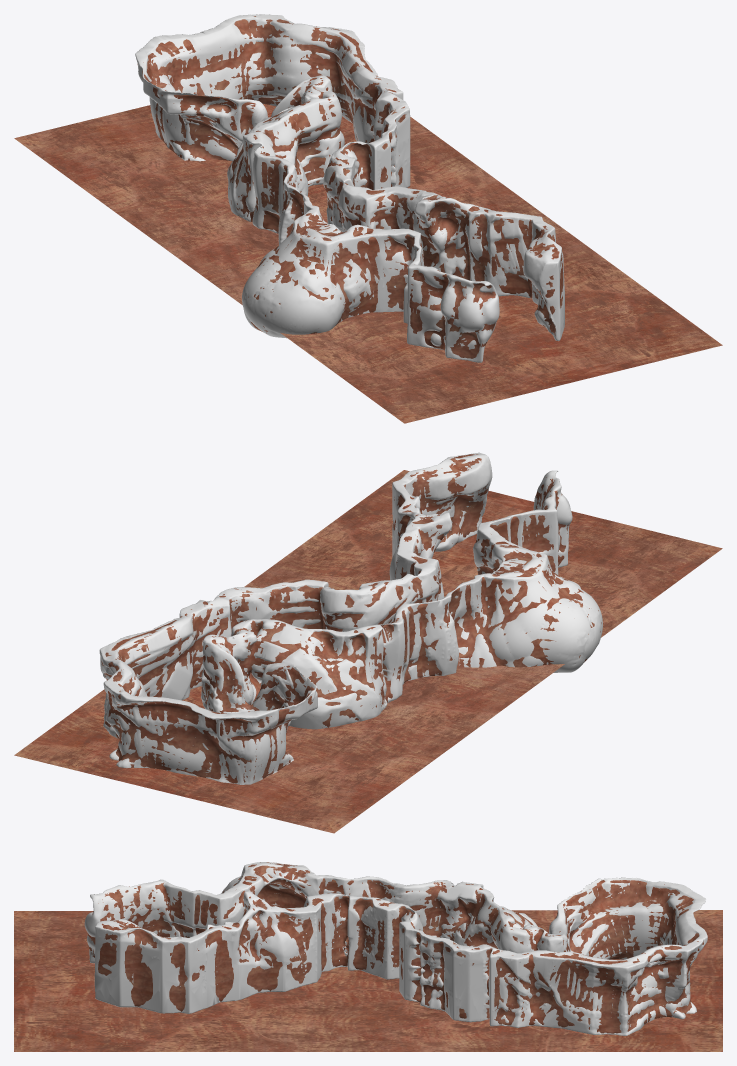
Rendered from floor text.glb.
The picture shows the model from 3 angles, top to bottom: view 1: azimuth 30°, elevation 25°; view 2: azimuth 150°, elevation 25°; view 3: azimuth 270°, elevation 25°; orthographic projection. The views are drawn at different scales.
Visible parts, largest first — view 1: Plane, Plane.001, Retopo_Plane.001; view 2: Plane.001, Plane, Retopo_Plane.001; view 3: Plane.001, Plane, Retopo_Plane.001.
Boxes of the visible parts, <box> form: Plane: <box>14,104,722,423</box>; Plane.001: <box>135,14,564,362</box>; Retopo_Plane.001: <box>137,16,563,358</box>; Plane.001: <box>99,452,602,784</box>; Plane: <box>14,470,722,833</box>; Retopo_Plane.001: <box>101,454,601,783</box>; Plane.001: <box>84,862,707,1035</box>; Plane: <box>14,910,722,1051</box>; Retopo_Plane.001: <box>88,862,703,1033</box>.
Size of the model in its own units: 81.6 by 27.62 by 166.
2 materials, 2 textured.
